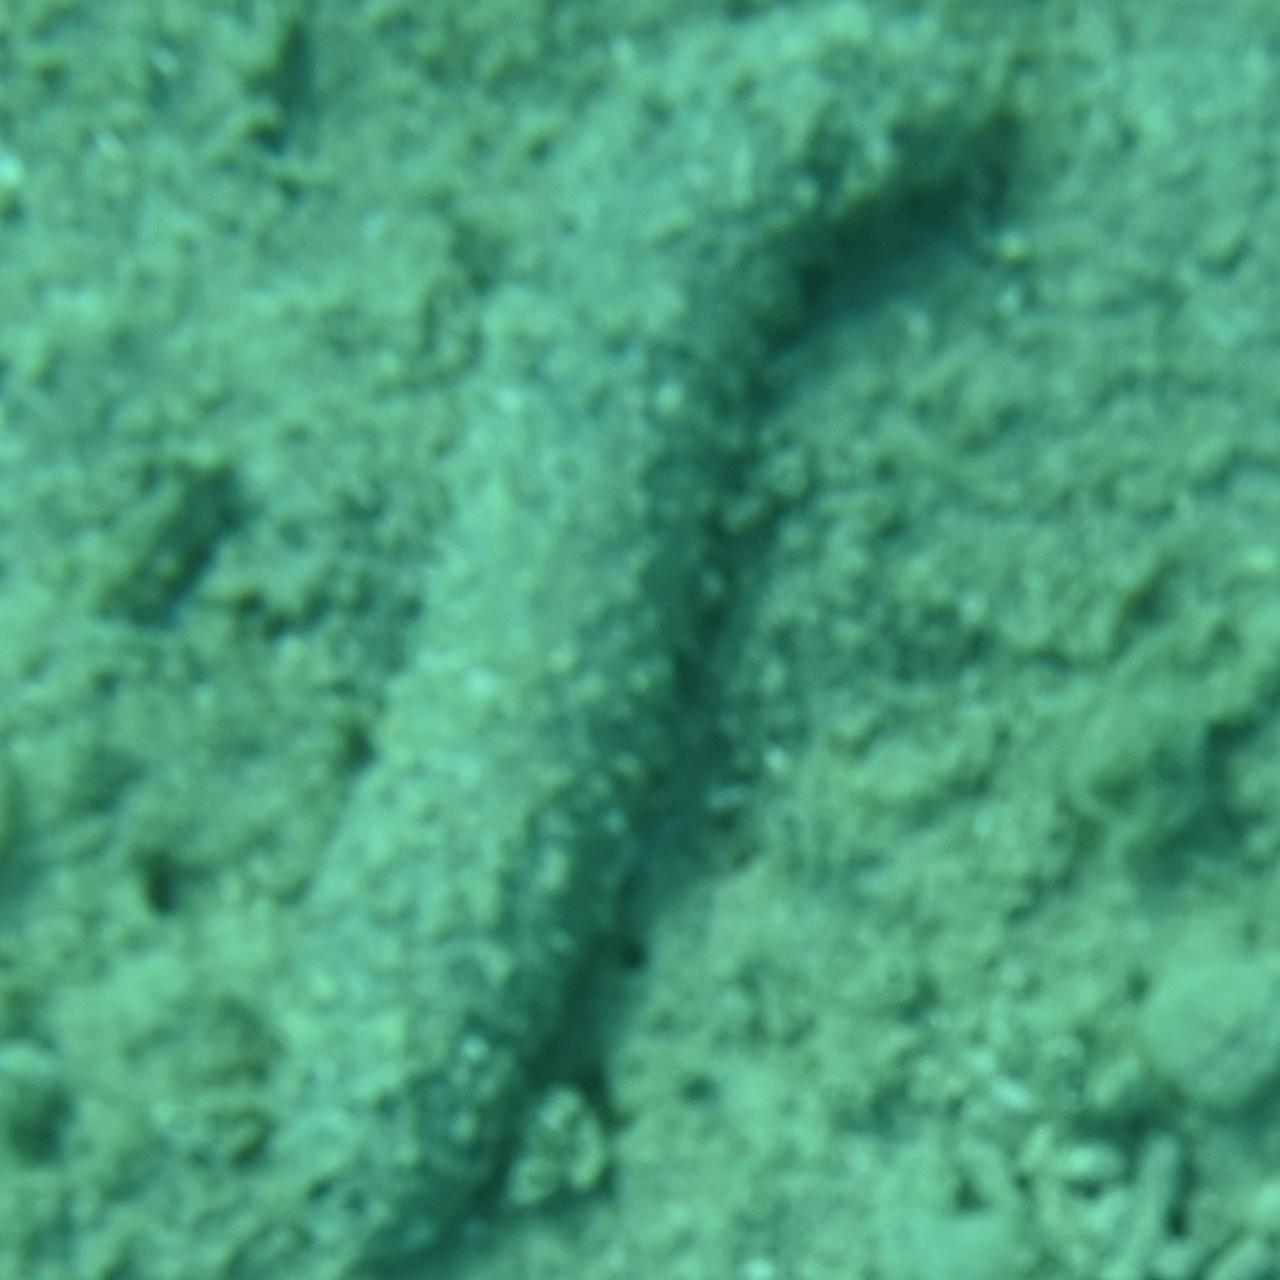Holothuria tubulosa: (248, 0, 1032, 1280)
